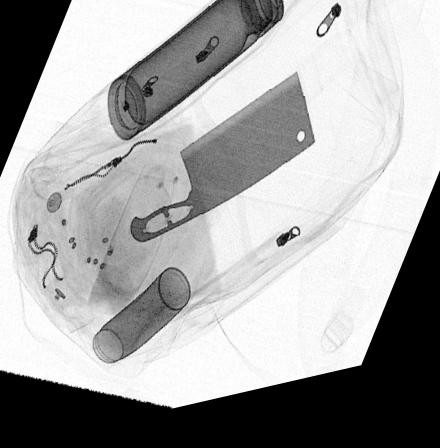Knife: (129, 85, 316, 250)
